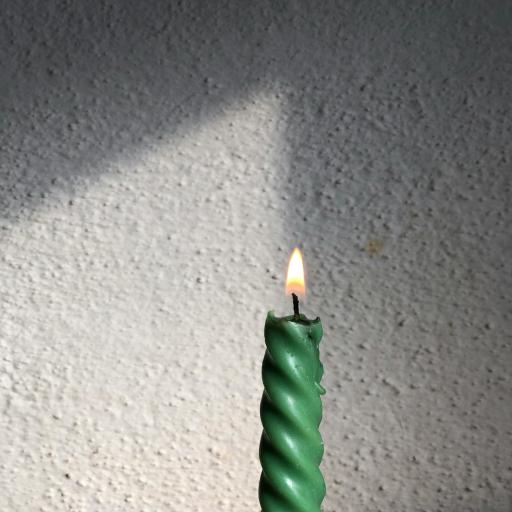candlelight: (259, 240, 345, 512)
